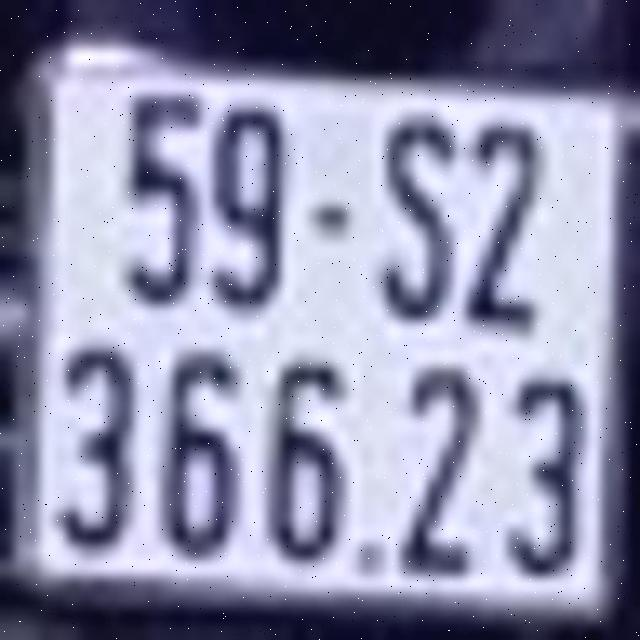2: (401, 361, 476, 577), (468, 119, 542, 331)
3: (58, 342, 136, 549), (507, 373, 583, 578)
5: (124, 88, 202, 307)
6: (270, 355, 346, 562), (166, 347, 240, 558)
9: (209, 101, 284, 312)
S: (380, 112, 457, 322)
